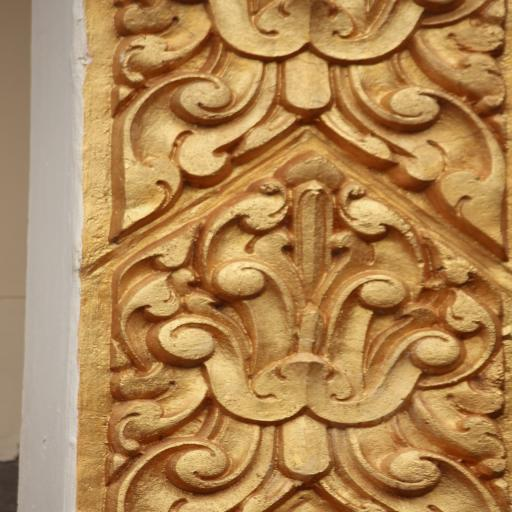la: (115, 154, 510, 512), (101, 0, 512, 238)
